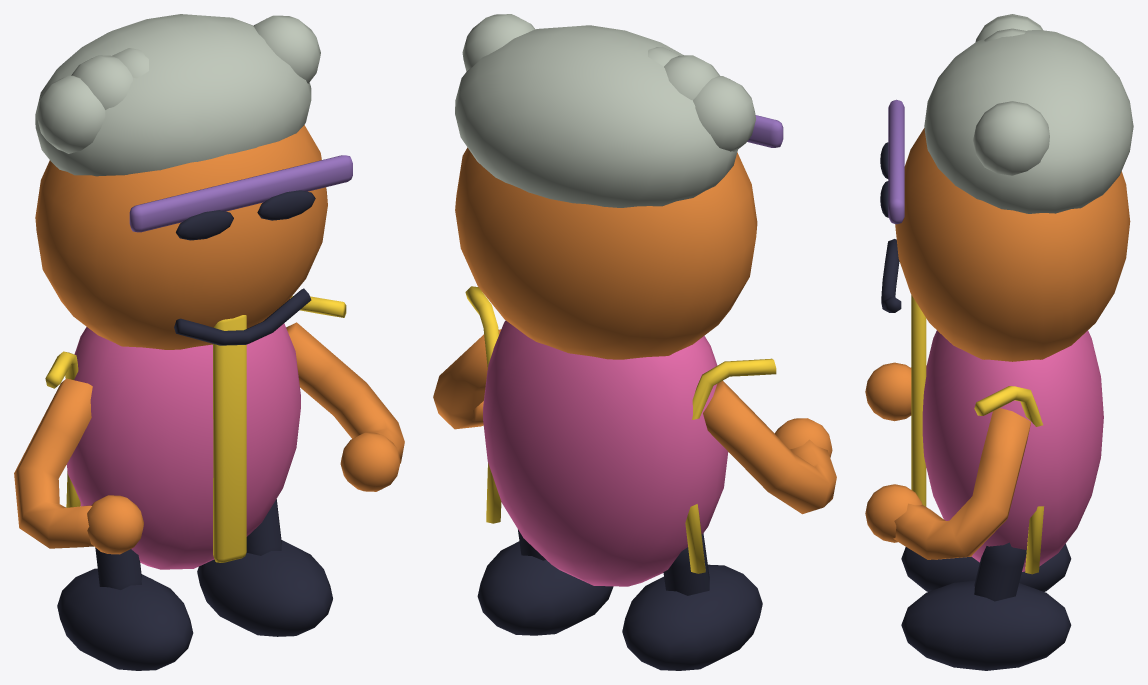
Rendered from re-runner.glb.
The picture shows the model from 3 angles, left to right: view 1: azimuth 30°, elevation 25°; view 2: azimuth 150°, elevation 25°; view 3: azimuth 270°, elevation 25°; orthographic projection. The views are drawn at different scales.
Parts seen in each view (by area): view 1: re-runner_toy-sw-orange, re-runner_toy-sw-grey, re-runner_toy-sw-pink, re-runner_toy-sw-ink, re-runner_toy-sw-yellow, re-runner_toy-sw-violet; view 2: re-runner_toy-sw-orange, re-runner_toy-sw-pink, re-runner_toy-sw-grey, re-runner_toy-sw-ink, re-runner_toy-sw-yellow, re-runner_toy-sw-violet; view 3: re-runner_toy-sw-orange, re-runner_toy-sw-grey, re-runner_toy-sw-pink, re-runner_toy-sw-ink, re-runner_toy-sw-yellow, re-runner_toy-sw-violet.
Part boxes in pixels (bbox=[...]): re-runner_toy-sw-orange: bbox=[14, 125, 404, 554]; re-runner_toy-sw-grey: bbox=[35, 14, 320, 176]; re-runner_toy-sw-pink: bbox=[66, 323, 300, 569]; re-runner_toy-sw-ink: bbox=[57, 190, 332, 670]; re-runner_toy-sw-yellow: bbox=[45, 296, 346, 562]; re-runner_toy-sw-violet: bbox=[129, 155, 352, 232]; re-runner_toy-sw-orange: bbox=[433, 147, 836, 514]; re-runner_toy-sw-pink: bbox=[483, 320, 728, 586]; re-runner_toy-sw-grey: bbox=[455, 14, 755, 207]; re-runner_toy-sw-ink: bbox=[477, 529, 762, 670]; re-runner_toy-sw-yellow: bbox=[465, 286, 776, 573]; re-runner_toy-sw-violet: bbox=[747, 115, 783, 147]; re-runner_toy-sw-orange: bbox=[865, 128, 1130, 559]; re-runner_toy-sw-grey: bbox=[924, 14, 1133, 213]; re-runner_toy-sw-pink: bbox=[922, 330, 1103, 571]; re-runner_toy-sw-ink: bbox=[880, 142, 1071, 670]; re-runner_toy-sw-yellow: bbox=[911, 295, 1044, 574]; re-runner_toy-sw-violet: bbox=[888, 99, 904, 224].
Size of the model in its own units: 0.6001 by 0.9165 by 0.3835.
